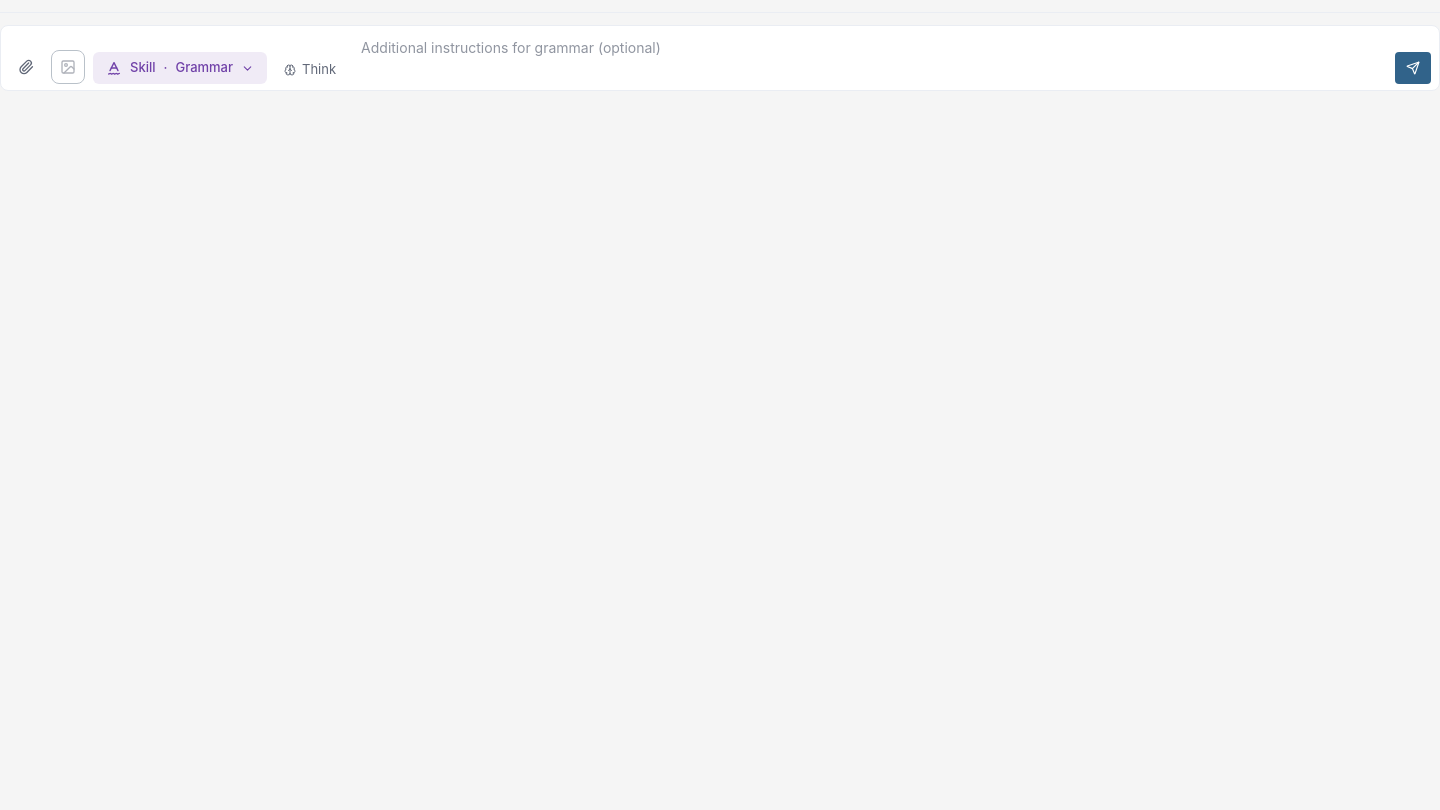
ImproveMode › layout-token loss warning › shows no warning when the AI output kept the tokens
Click the button named "Improve Page".
click(1413, 68)  # box 1395,52 -> 1431,84
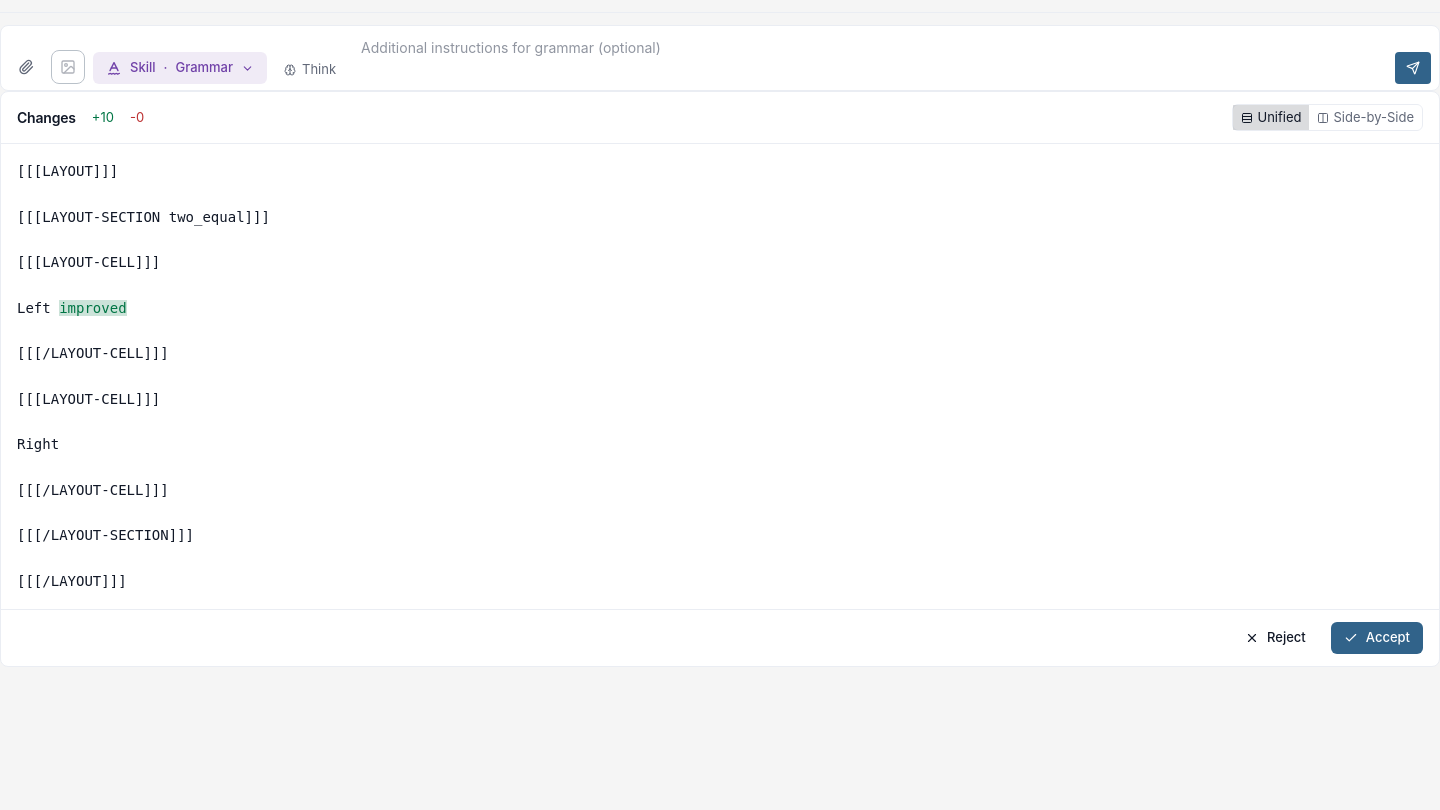
Now the element with test id "unified-diff" is shown, box 17,163 -> 270,589
